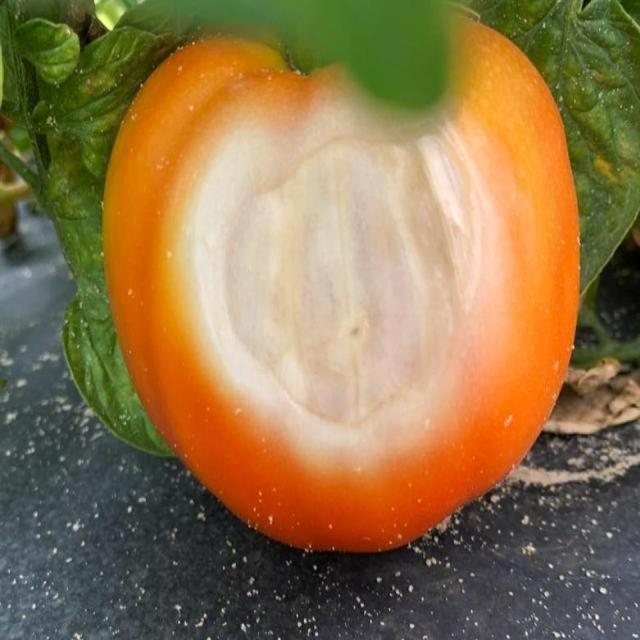Sunscald Fruit: (125, 64, 343, 302)
